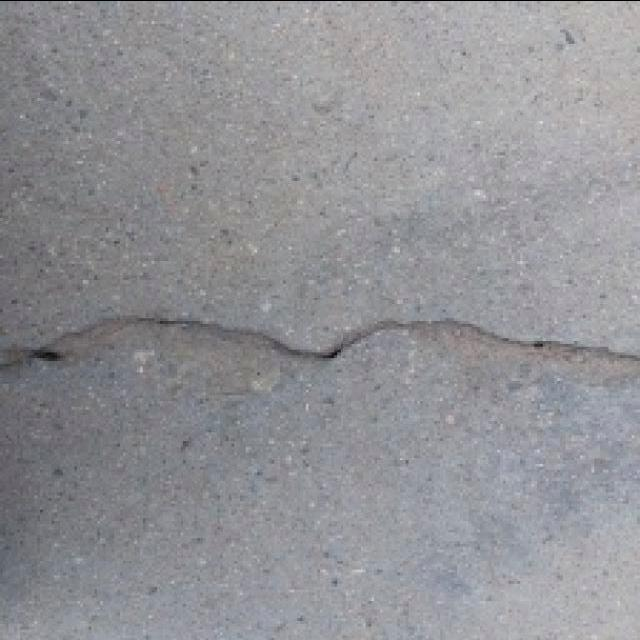SurfaceCrack: (2, 306, 640, 408)
